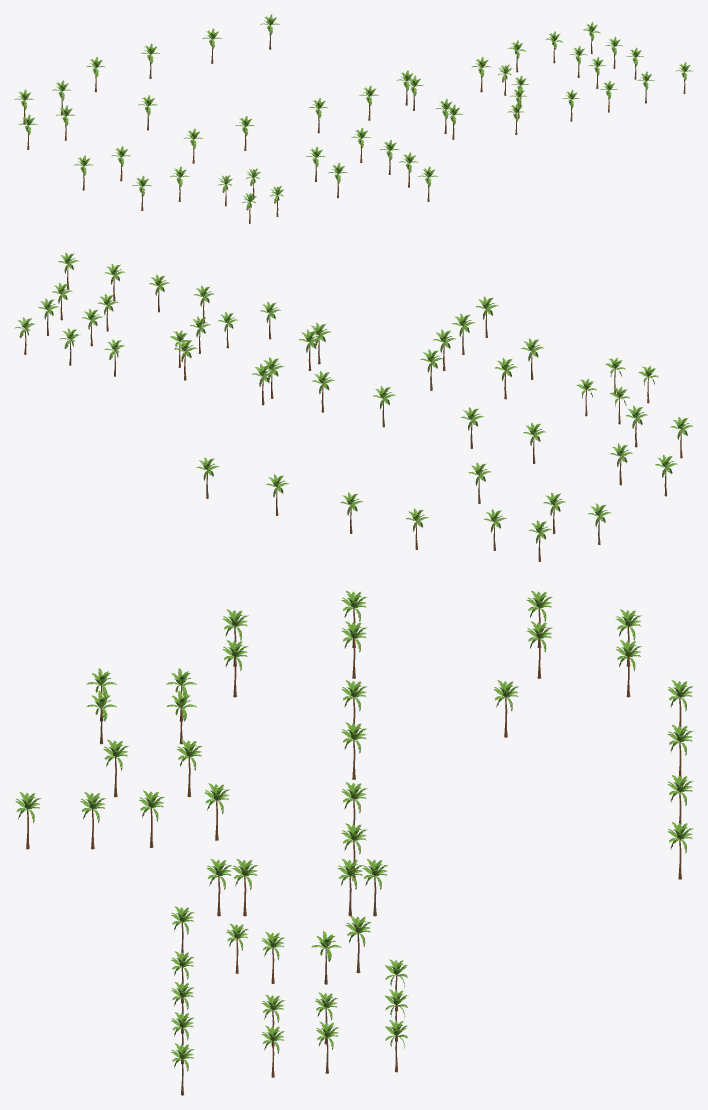
The model's file is tree-large.glb.
The picture shows the model from 3 angles, top to bottom: view 1: azimuth 30°, elevation 25°; view 2: azimuth 150°, elevation 25°; view 3: azimuth 270°, elevation 25°; orthographic projection. The views are drawn at different scales.
Size of the model in its own units: 228 by 12.54 by 143.
